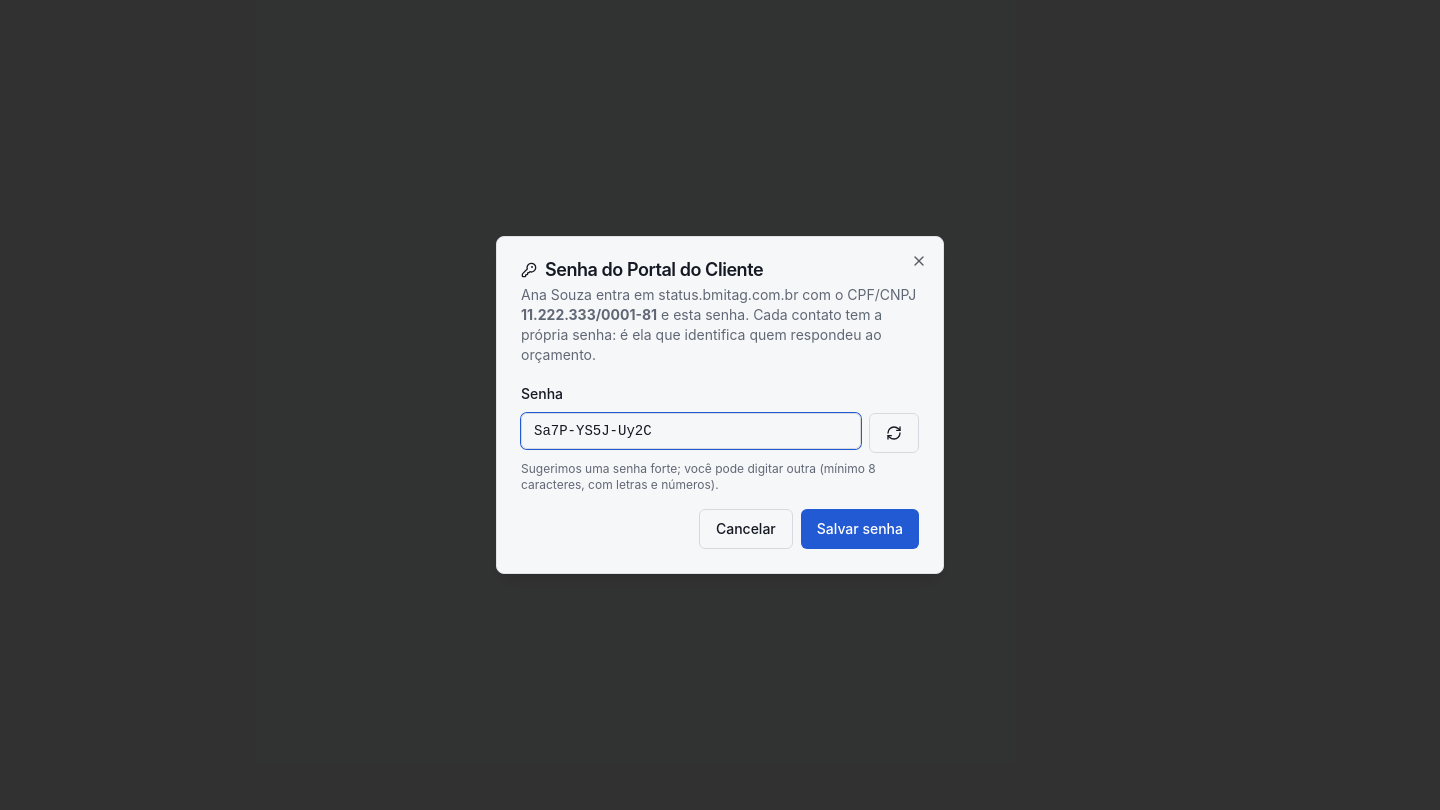
Test case: SenhaPortalDialog › mostra o erro do backend (senha repetida em outro contato)
Click the button "Salvar senha": (860, 529) left=801, top=509, right=919, bottom=549
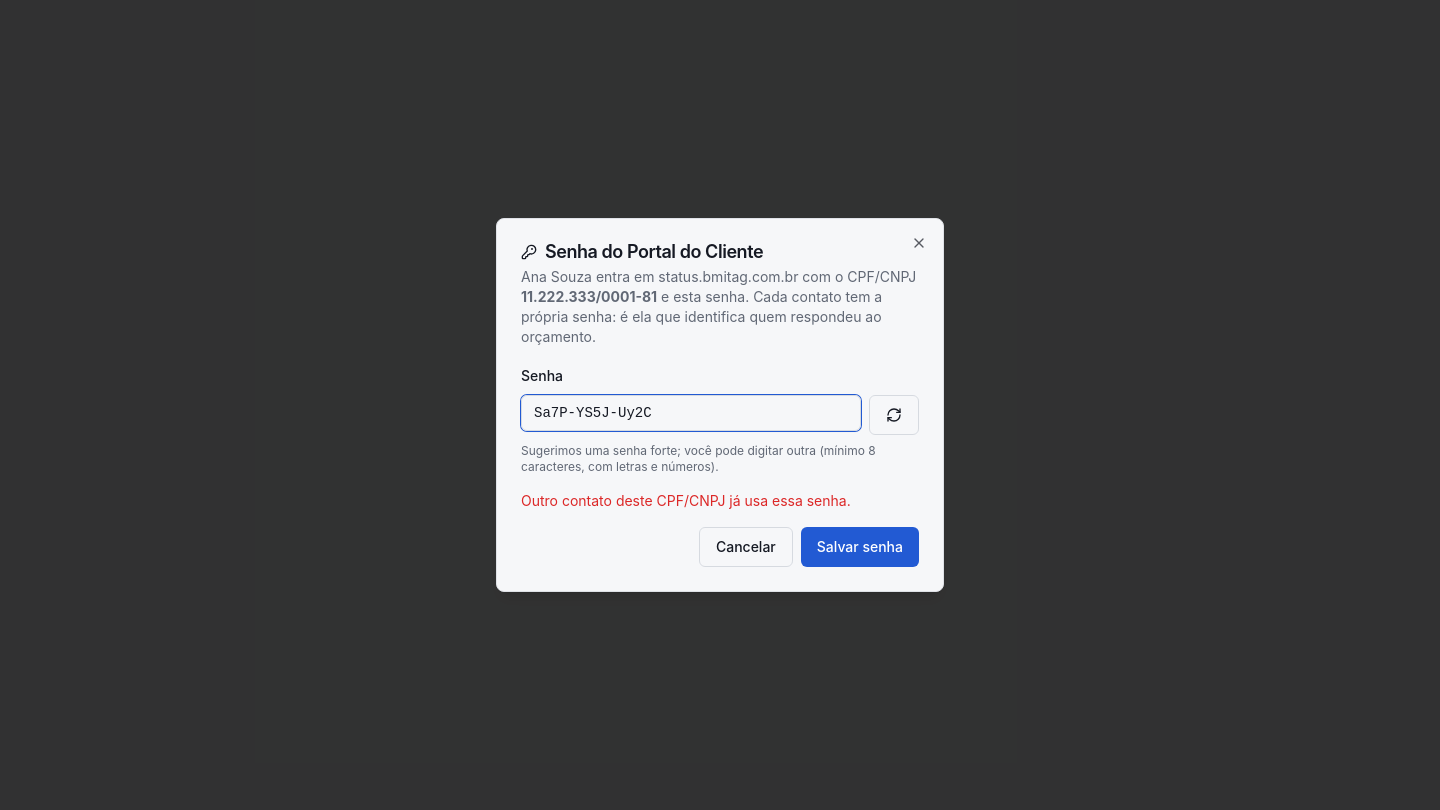
expect the message shows "já usa essa senha": met, box left=521, top=492, right=851, bottom=509
